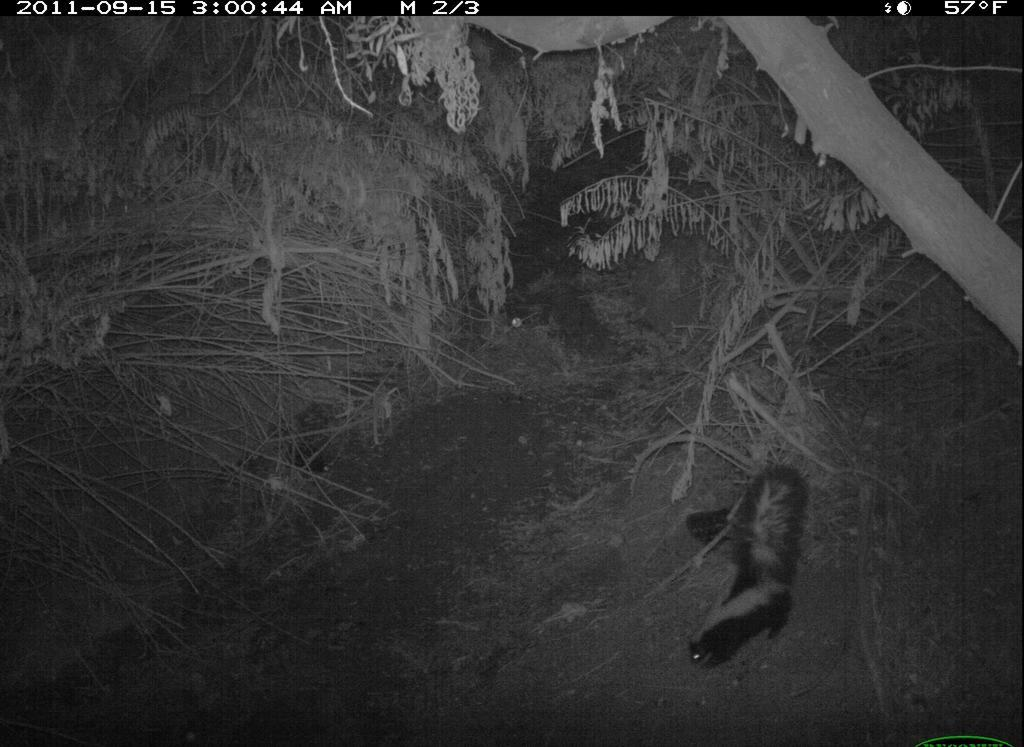skunk: (680, 457, 813, 673)
